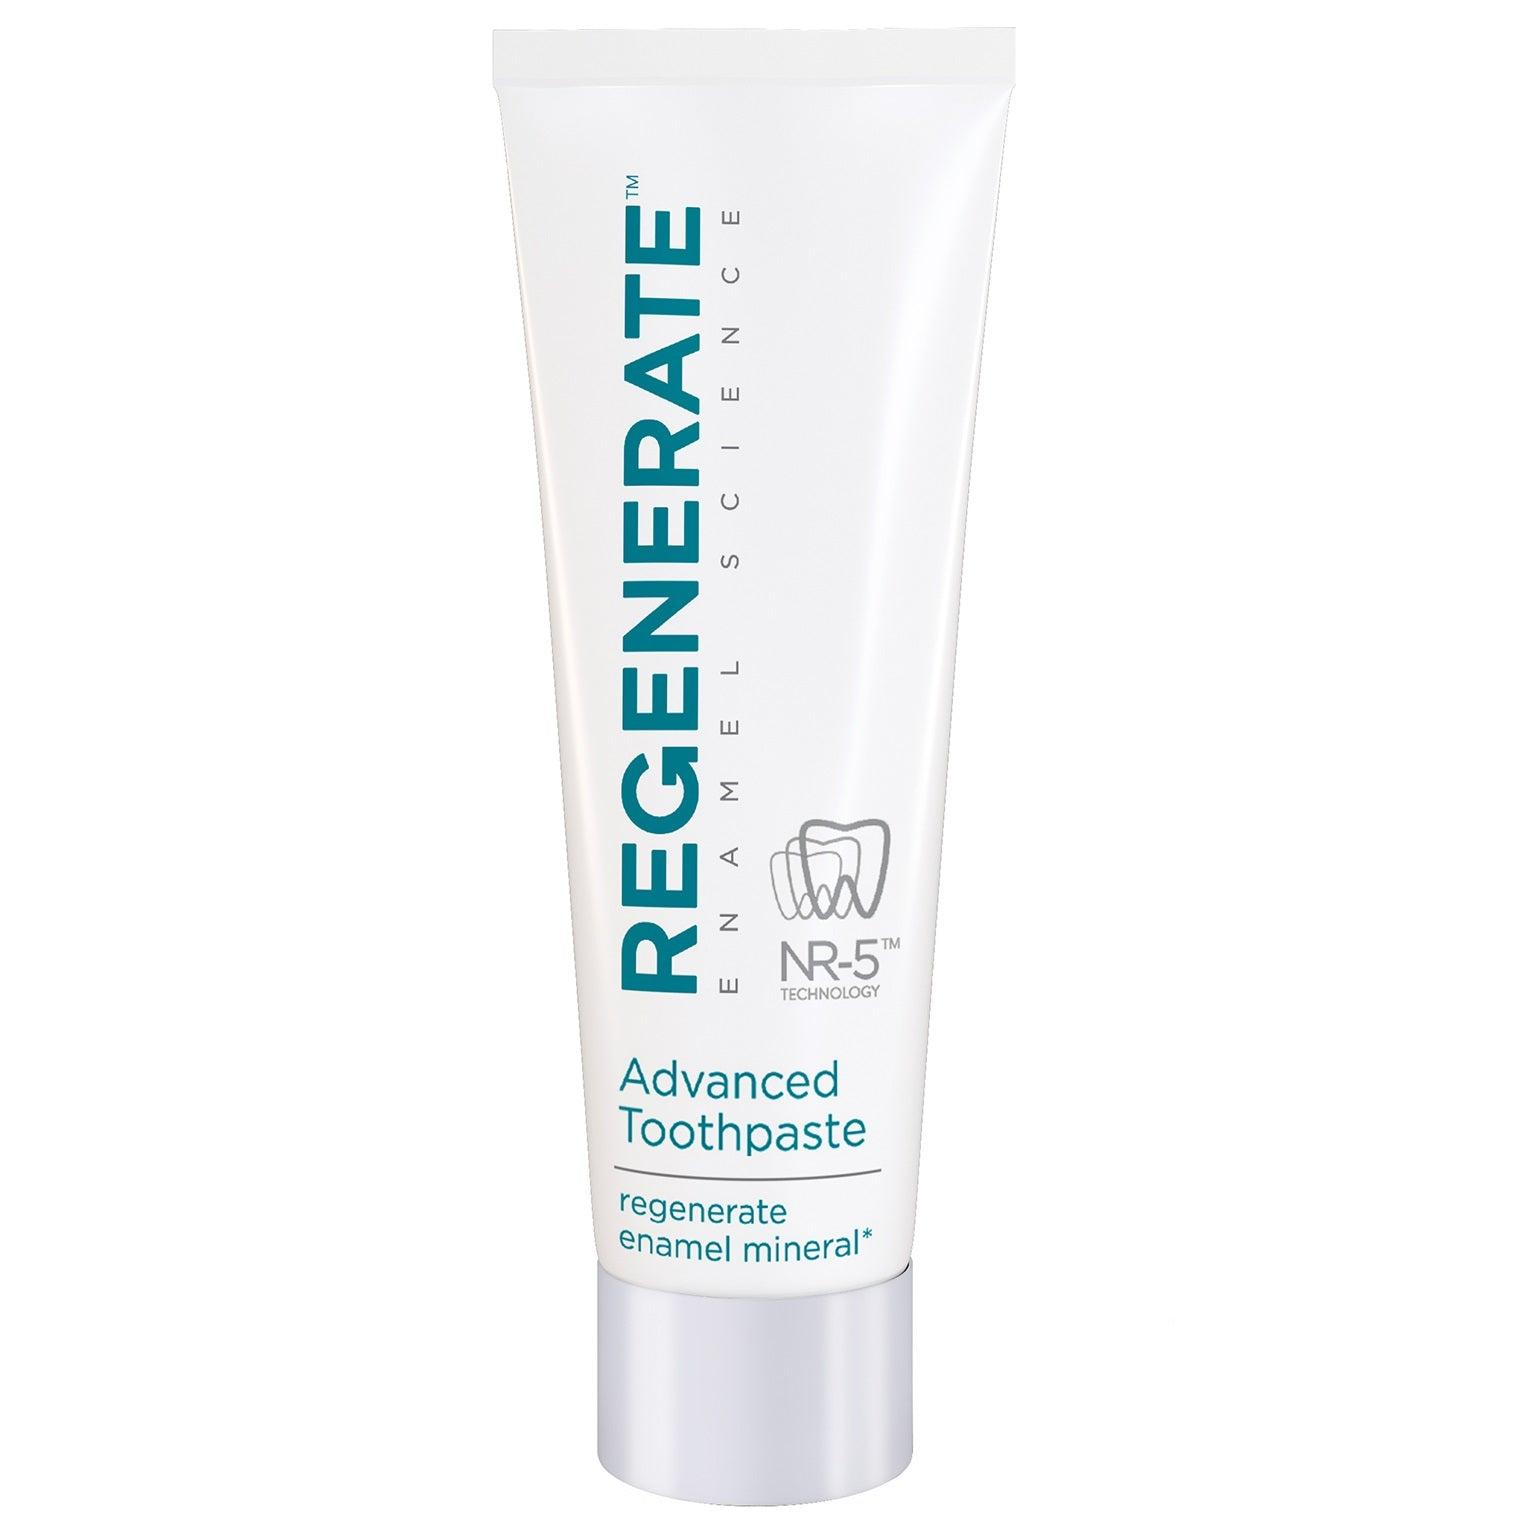toothpaste: (470, 11, 1044, 1509)
